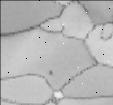good_void: (48, 69, 53, 75)
